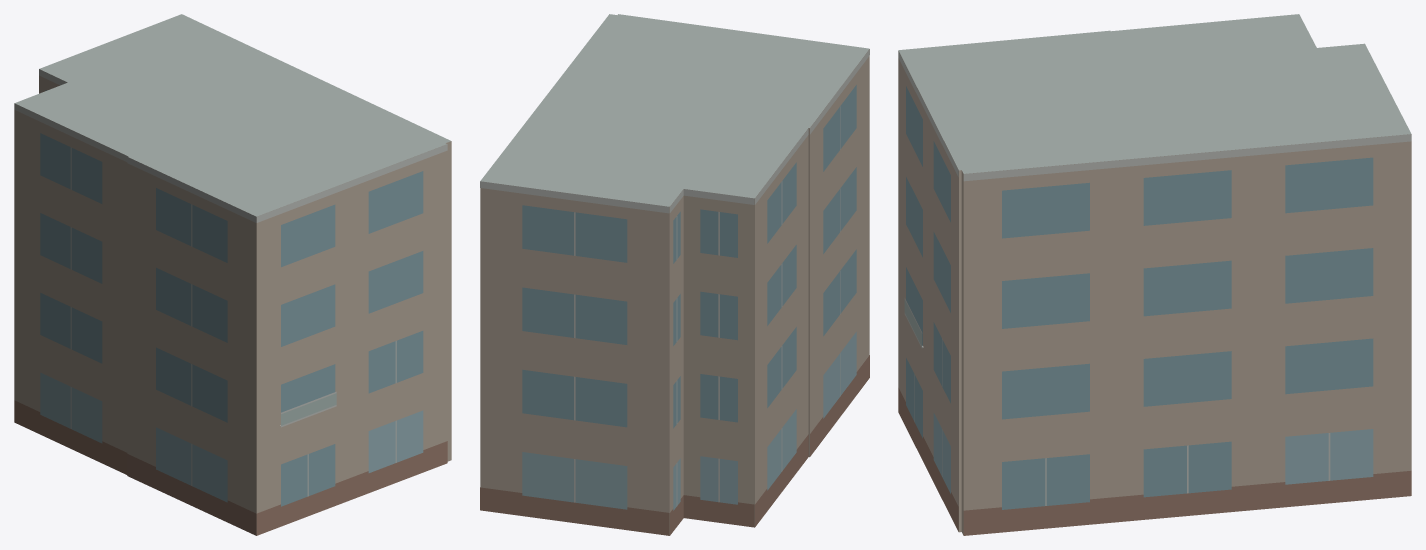
Rendered from survey-upis-32958955.glb.
The picture shows the model from 3 angles, left to right: view 1: azimuth 30°, elevation 25°; view 2: azimuth 150°, elevation 25°; view 3: azimuth 270°, elevation 25°; orthographic projection. The views are drawn at different scales.
Parts seen in each view (by area): view 1: survey-upis-32958955.tmp; view 2: survey-upis-32958955.tmp; view 3: survey-upis-32958955.tmp.
Part boxes in pixels (box(x1,y1,x2,y2)): survey-upis-32958955.tmp: box(14, 14, 451, 535); survey-upis-32958955.tmp: box(480, 14, 869, 535); survey-upis-32958955.tmp: box(898, 14, 1411, 535).
Size of the model in its own units: 11.38 by 12 by 15.43.
